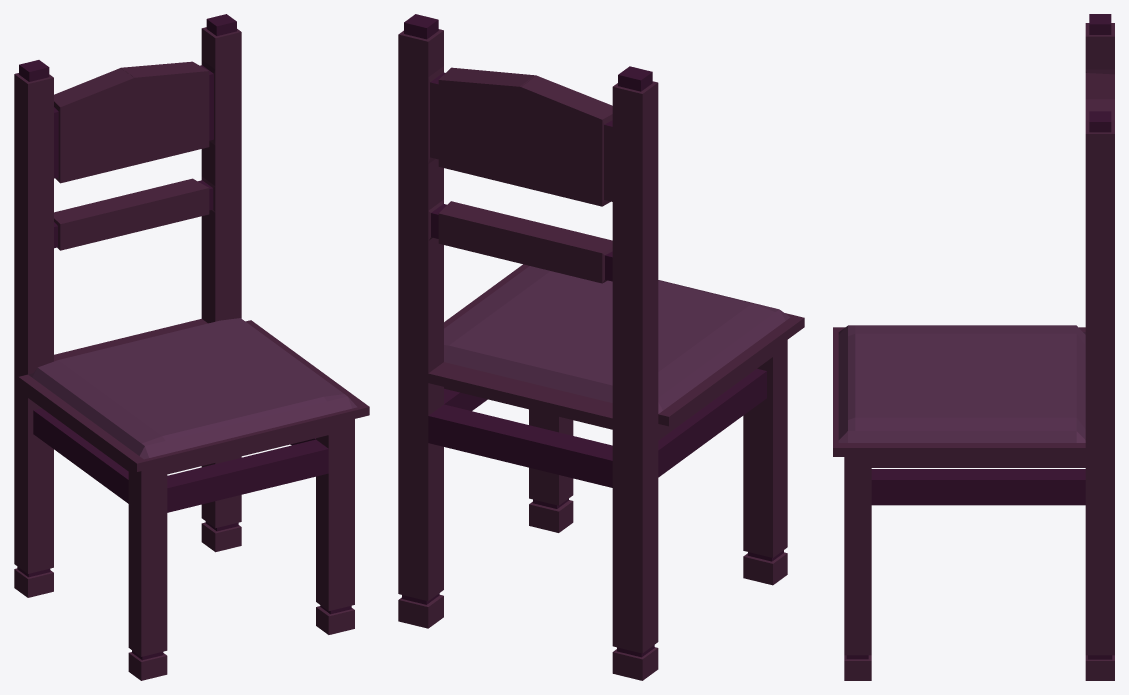
Rendered from cadeira.fbx.
The picture shows the model from 3 angles, left to right: view 1: azimuth 30°, elevation 25°; view 2: azimuth 150°, elevation 25°; view 3: azimuth 270°, elevation 25°; orthographic projection. The views are drawn at different scales.
Visible parts, largest first — view 1: cadeira 3 rosa; view 2: cadeira 3 rosa; view 3: cadeira 3 rosa.
Part boxes in pixels (x1,y1,x2,y2): cadeira 3 rosa: (14,14,369,680); cadeira 3 rosa: (398,14,804,680); cadeira 3 rosa: (833,14,1114,680).
Bounding box in the file's own units: 443 × 953 × 436.
